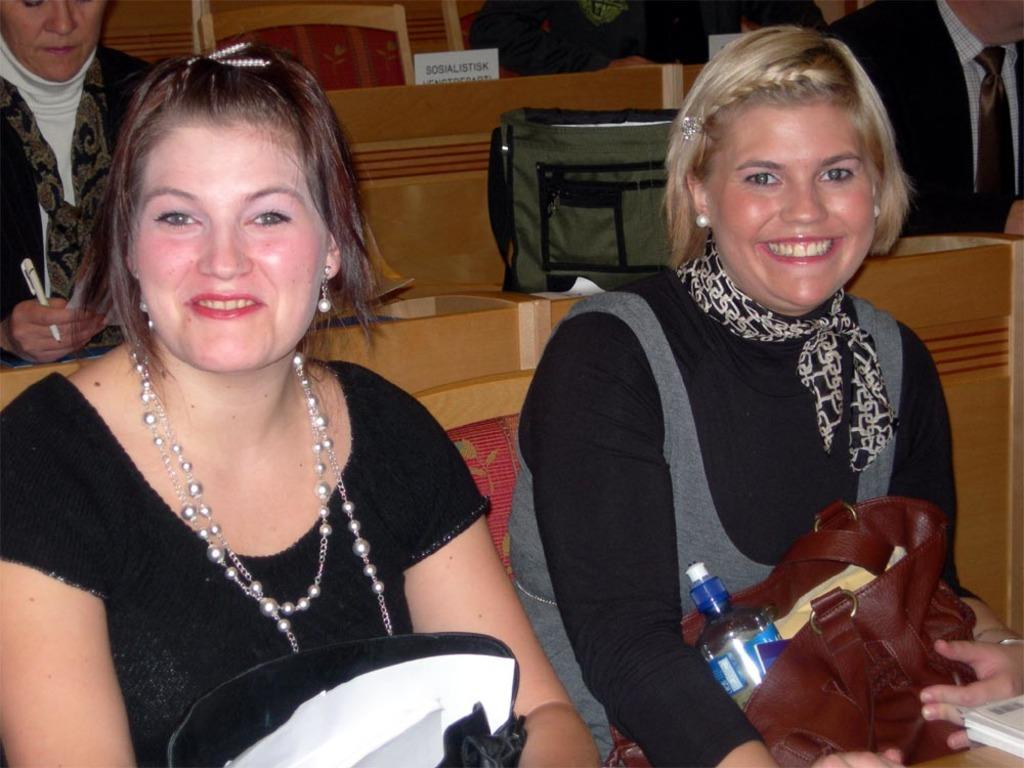Luggage-and-bags: (604, 497, 979, 767), (164, 632, 526, 767), (482, 106, 676, 288)
